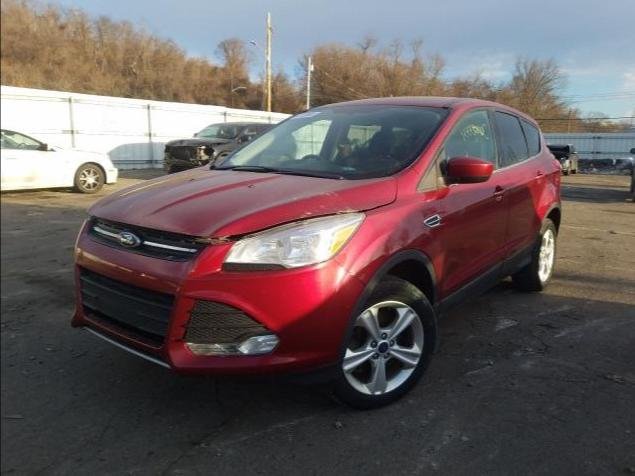Broken part: (84, 198, 396, 245)
Dent: (380, 233, 408, 257)
